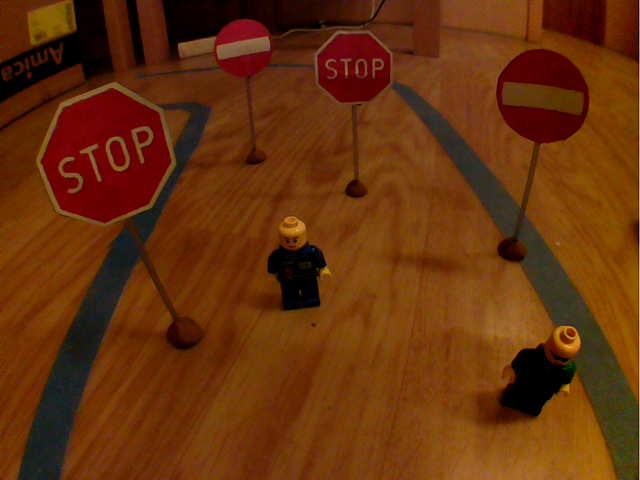Postac LEGO: (494, 320, 588, 425), (261, 210, 335, 320)
Stop: (31, 77, 182, 230), (309, 27, 398, 109)
Zakaz: (493, 44, 596, 149), (207, 14, 278, 80)
